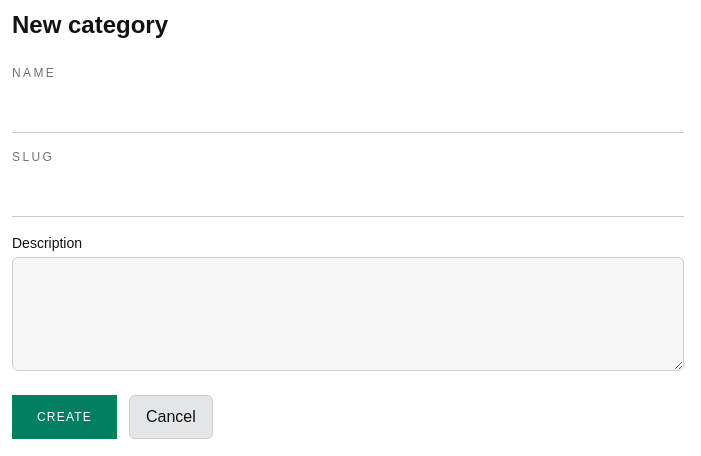
Test: NewCategoryPage › auto-generates slug from name as user types
The width and height of the screenshot is (701, 456).
Type "Summer Sale" into the field labelled "Name" at [348, 111], box [12,89,684,133]
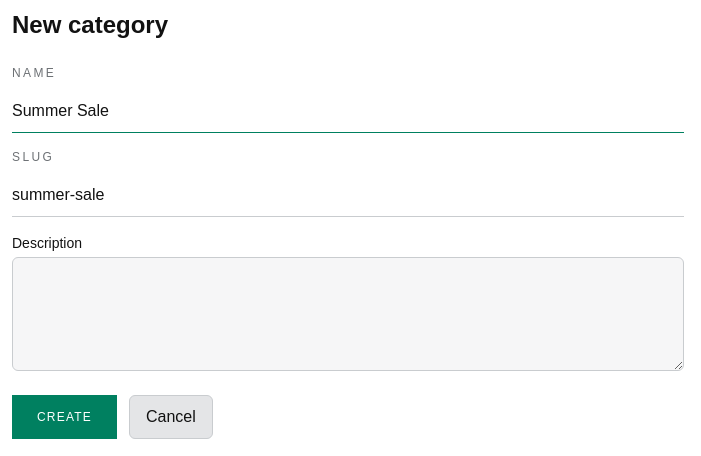
Now the field labelled "Slug" holds "summer-sale", box [12,173,684,217]
